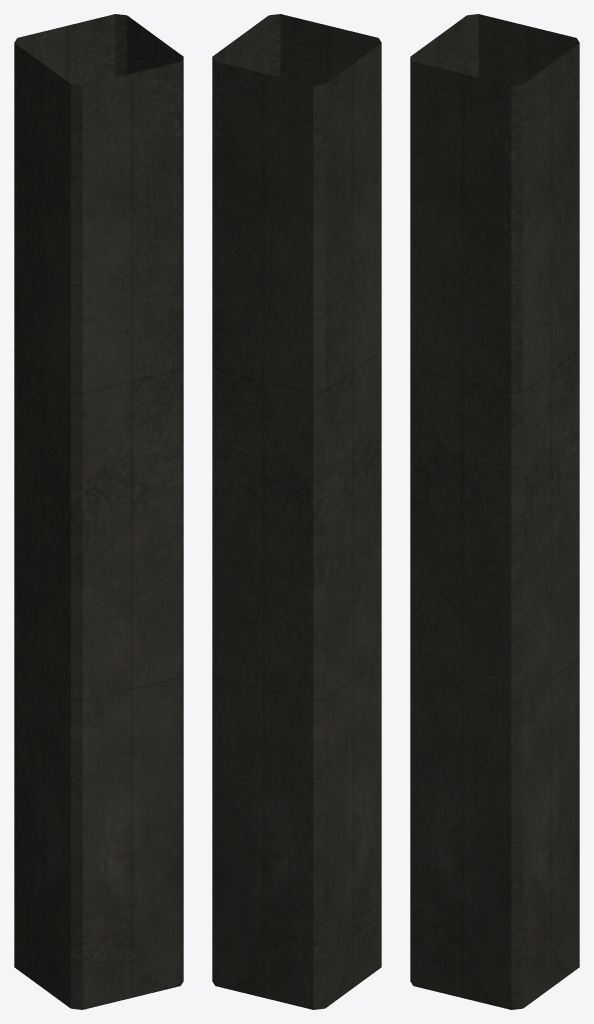
File: column_1_horizontal.fbx
3 renders of one model, left to right at view 1: azimuth 30°, elevation 25°; view 2: azimuth 150°, elevation 25°; view 3: azimuth 330°, elevation 25°, orthographic.
Visible parts, largest first — view 1: column_1_horizontal; view 2: column_1_horizontal; view 3: column_1_horizontal.
Boxes of the visible parts, box(x1,y1,x2,y2) form: column_1_horizontal: box(14, 14, 183, 1009); column_1_horizontal: box(212, 14, 381, 1009); column_1_horizontal: box(410, 14, 579, 1009).
Bounding box in the file's own units: 46 × 360 × 46.
